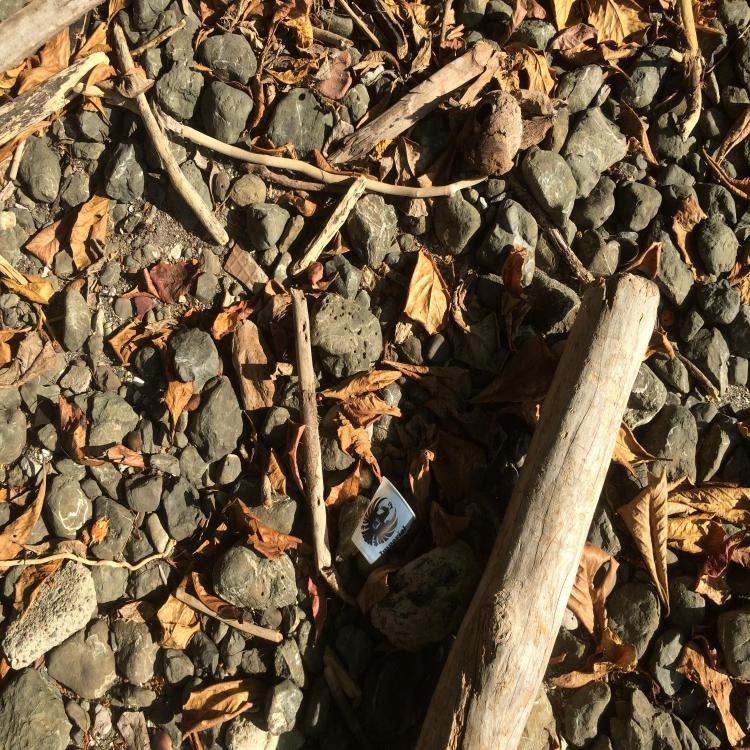Disposable plastic cup: (352, 476, 416, 564)
